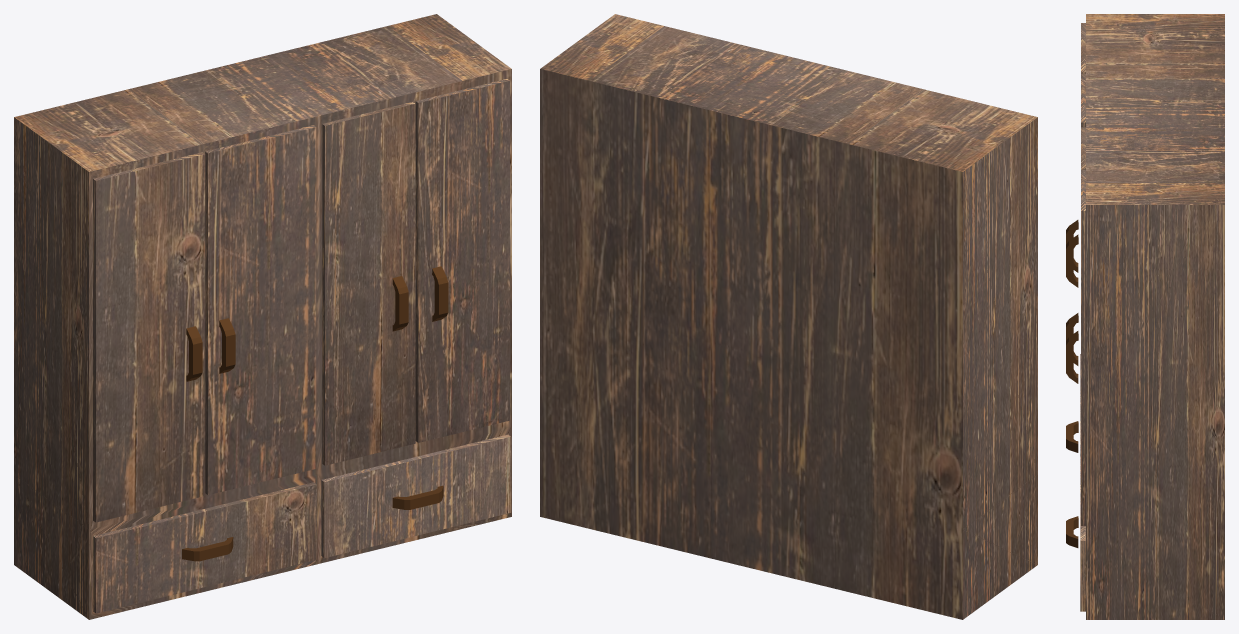
File: closet.fbx
3 views of the same model, side by side, from view 1: azimuth 30°, elevation 25°; view 2: azimuth 150°, elevation 25°; view 3: azimuth 270°, elevation 25° (orthographic). The views are drawn at different scales.
Parts seen in each view (by area): view 1: Cube.008; view 2: Cube.008; view 3: Cube.008.
Boxes of the visible parts, x1,y1,x2,y2 form: Cube.008: [14, 14, 511, 619]; Cube.008: [540, 14, 1037, 619]; Cube.008: [1066, 14, 1224, 619].
Bounding box in the file's own units: 411 × 416 × 144.
